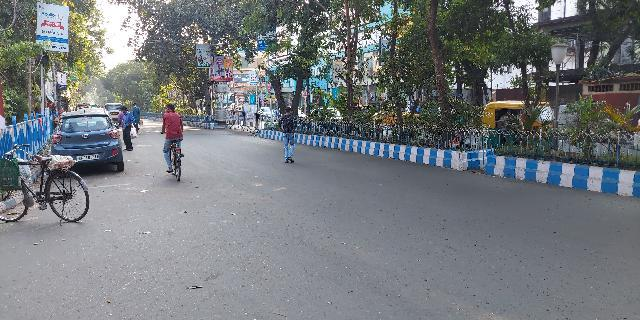Car: (49, 107, 128, 175)
Cycle: (1, 142, 89, 228), (158, 101, 188, 185)
